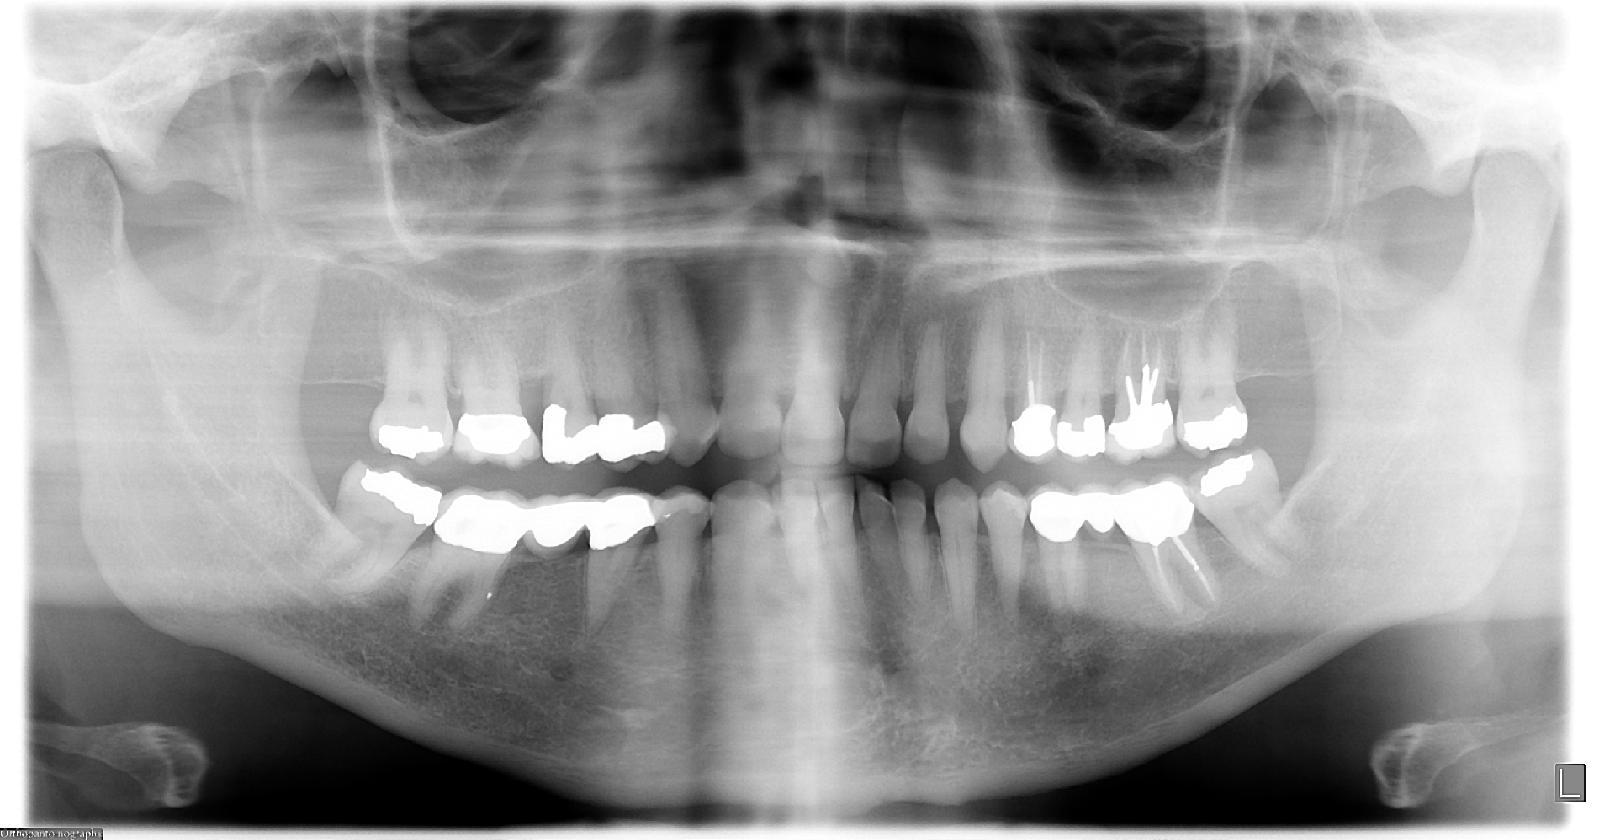Erupted: (322, 459, 443, 602), (1194, 449, 1314, 579)
